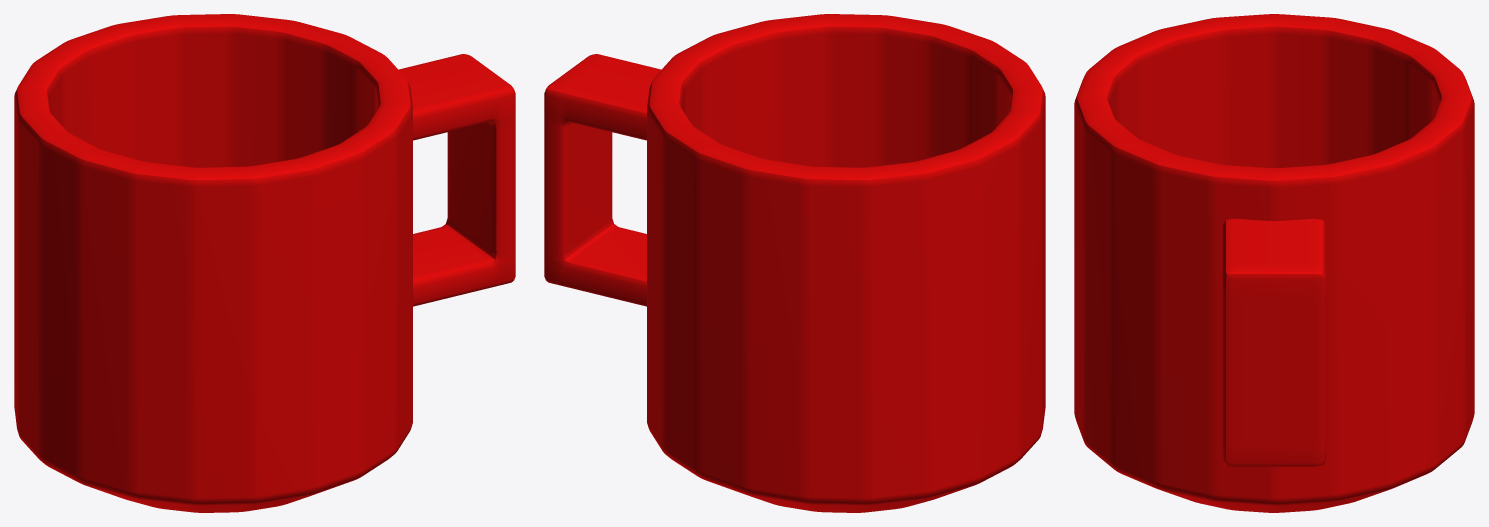
Rendered from SM_Tasse.fbx.
3 renders of one model, left to right at view 1: azimuth 30°, elevation 25°; view 2: azimuth 150°, elevation 25°; view 3: azimuth 270°, elevation 25°, orthographic.
Parts seen in each view (by area): view 1: tasse; view 2: tasse; view 3: tasse.
Boxes of the visible parts, box(x1,y1,x2,y2) form: tasse: box(14, 14, 515, 512); tasse: box(544, 14, 1045, 512); tasse: box(1074, 14, 1474, 512).
Size of the model in its own units: 8.46 by 6.5 by 6.49.
